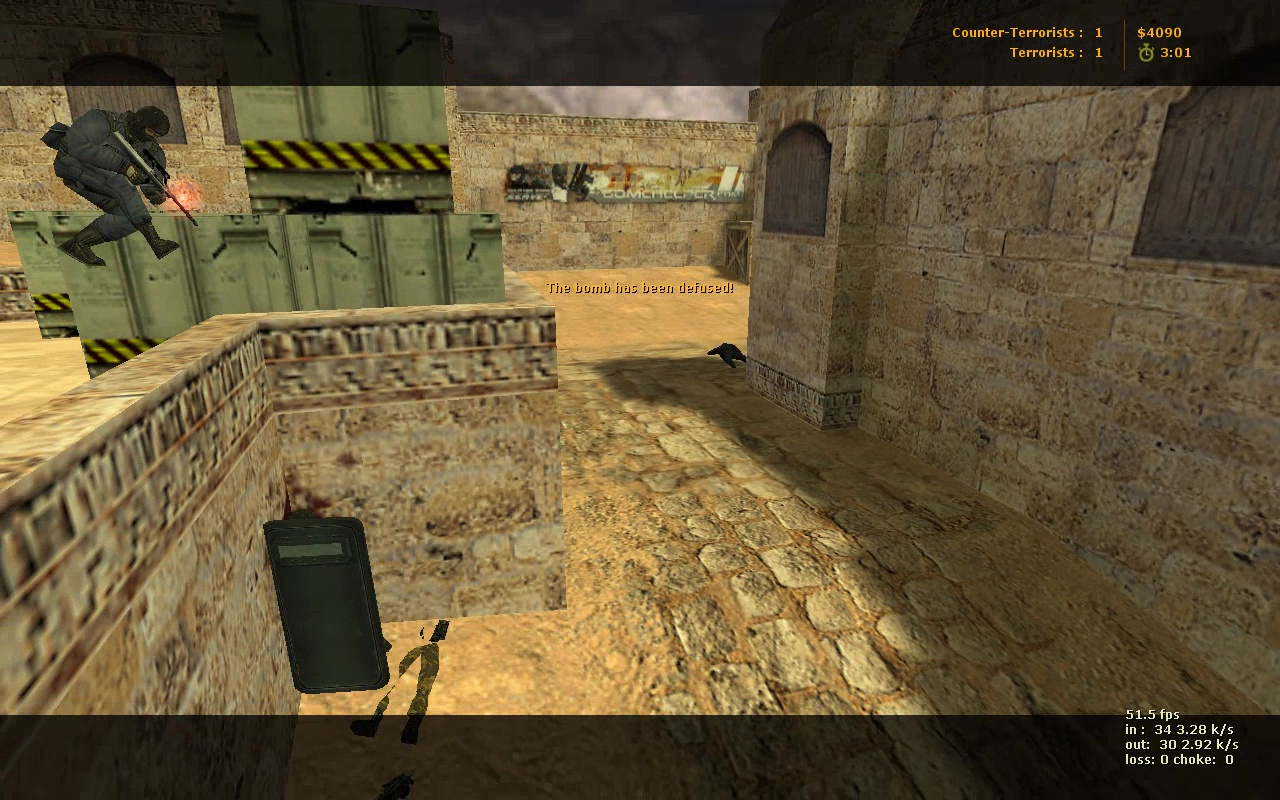ct: (262, 512, 396, 697), (41, 106, 186, 263)
dead: (710, 341, 748, 368)
